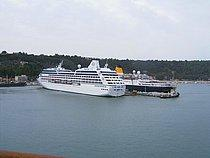Ship: (34, 58, 130, 101)
